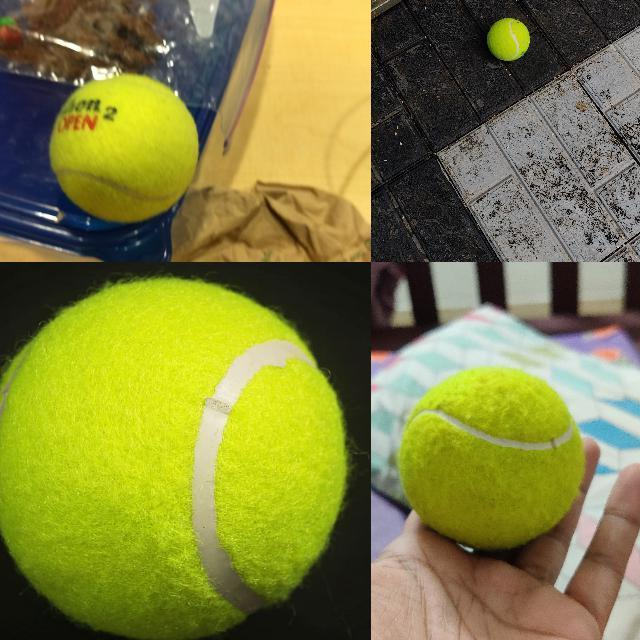tennis-ball: (0, 277, 350, 639), (396, 365, 586, 549), (48, 74, 199, 223), (486, 17, 530, 61)
